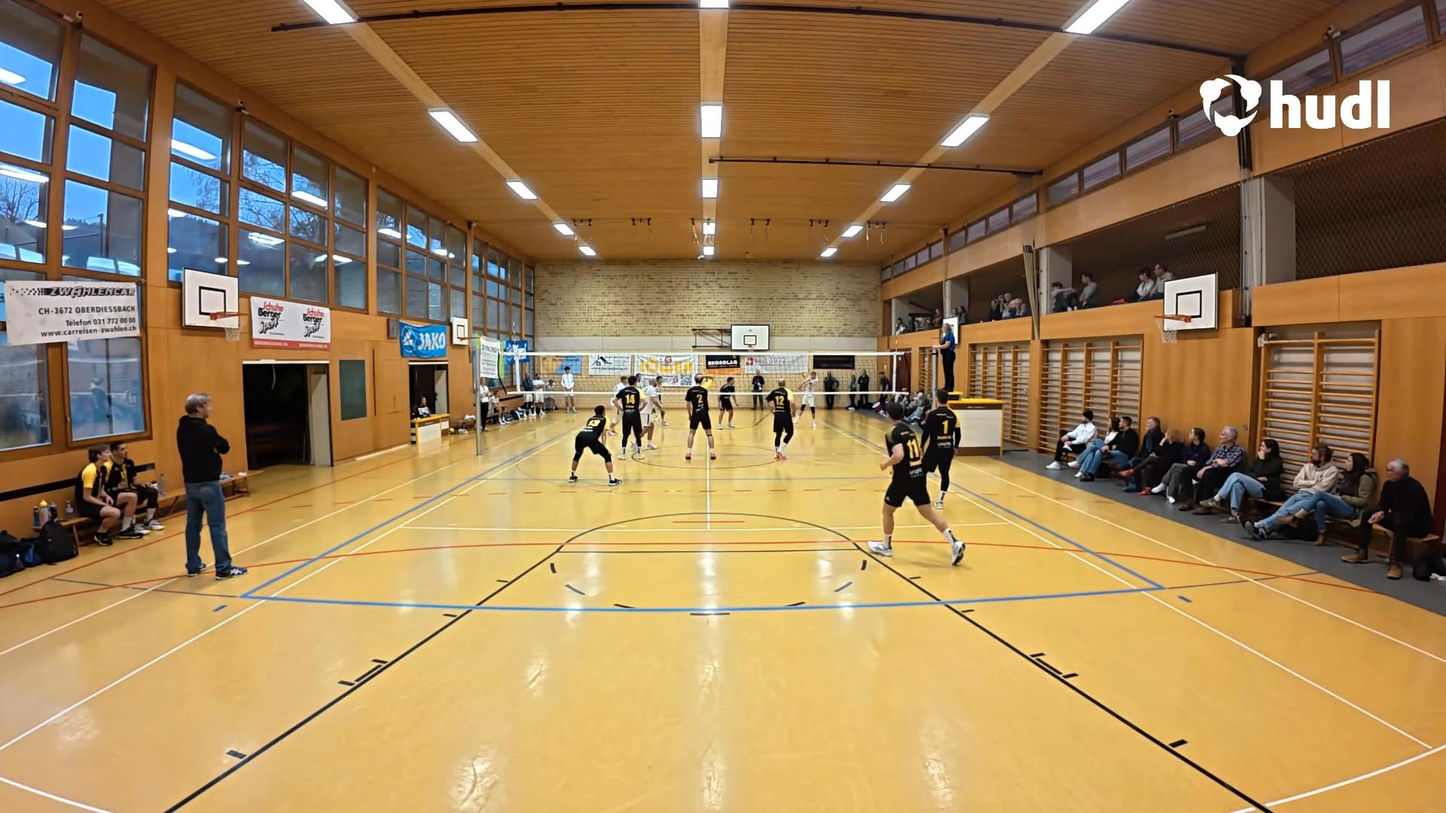Player: (866, 400, 964, 564), (565, 401, 622, 486), (919, 390, 960, 506), (683, 372, 717, 461), (618, 375, 650, 456), (636, 372, 665, 454), (770, 377, 798, 461), (601, 370, 629, 434), (717, 374, 737, 429)
Receive: (792, 361, 822, 430)
ball: (798, 368, 808, 381)
